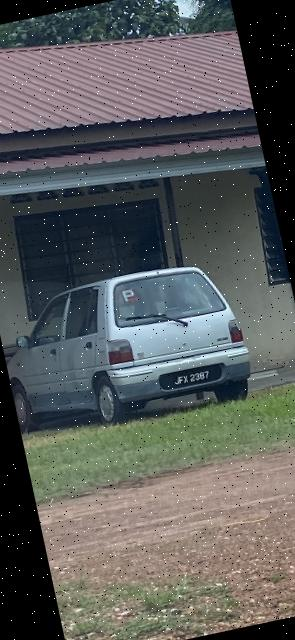License_Plate: (162, 365, 223, 394)
car: (1, 252, 256, 444)
